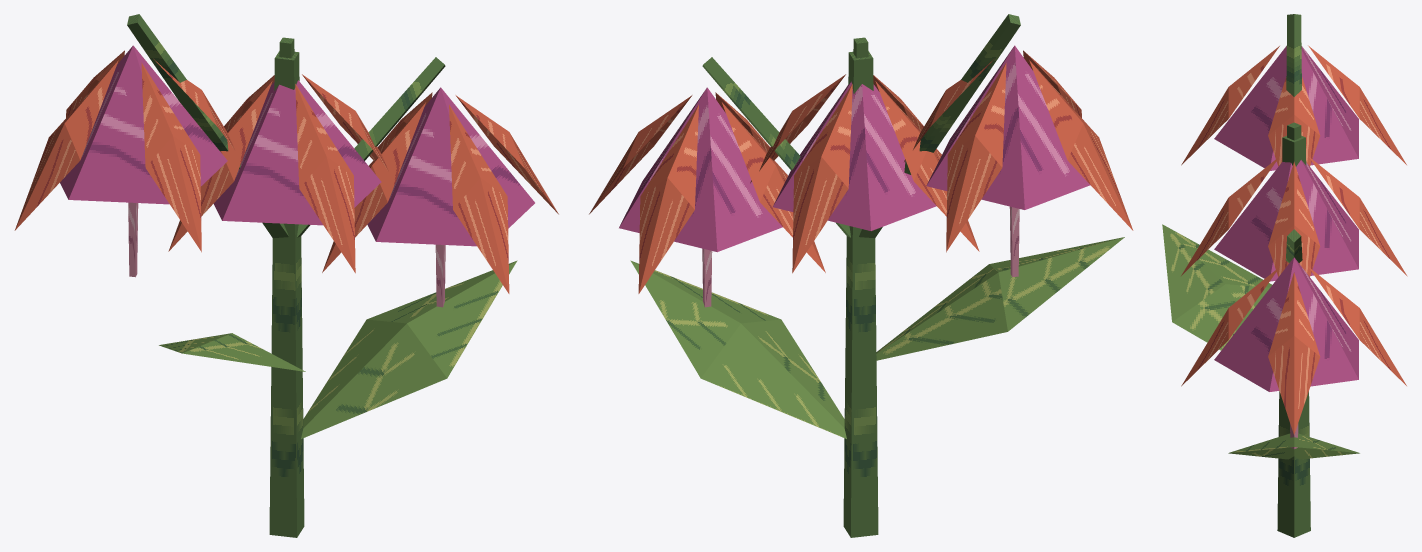
Rendered from flor-brinco-de-princesa-v01.gltf.
3 views of the same model, side by side, from view 1: azimuth 30°, elevation 25°; view 2: azimuth 150°, elevation 25°; view 3: azimuth 270°, elevation 25° (orthographic). The views are drawn at different scales.
Parts seen in each view (by area): view 1: petalas, saias, folhas, hastes, estames; view 2: petalas, saias, folhas, hastes, estames; view 3: saias, petalas, folhas, hastes.
Boxes of the visible parts, x1,y1,x2,y2 form: petalas: (14,50,558,293); saias: (60,45,534,246); folhas: (159,260,517,438); hastes: (127,14,445,537); estames: (128,202,445,307); petalas: (589,50,1133,293); saias: (619,45,1090,252); folhas: (630,237,1124,438); hastes: (702,14,1020,537); estames: (702,206,1019,307); saias: (1214,46,1358,391); petalas: (1181,45,1407,434); folhas: (1162,224,1359,459); hastes: (1277,14,1310,537).
Bounding box in the file's own units: 0.78 × 0.7556 × 0.3675.
Materials: 1 (1 with a texture image).
